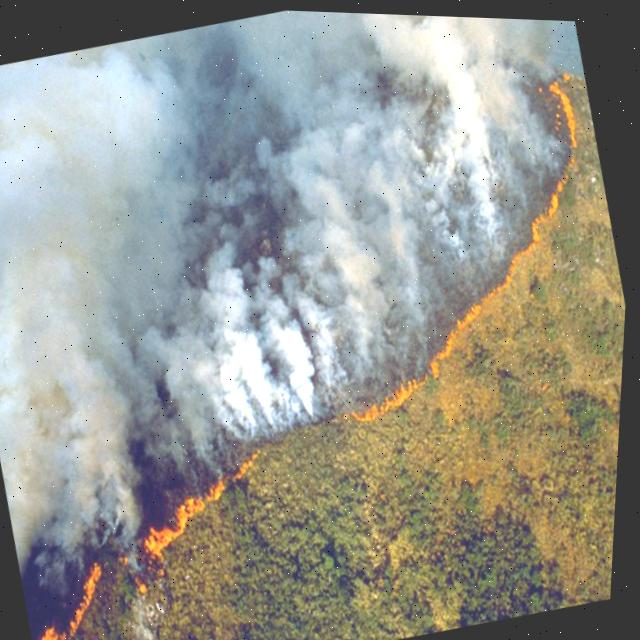smoke: (0, 8, 567, 600)
